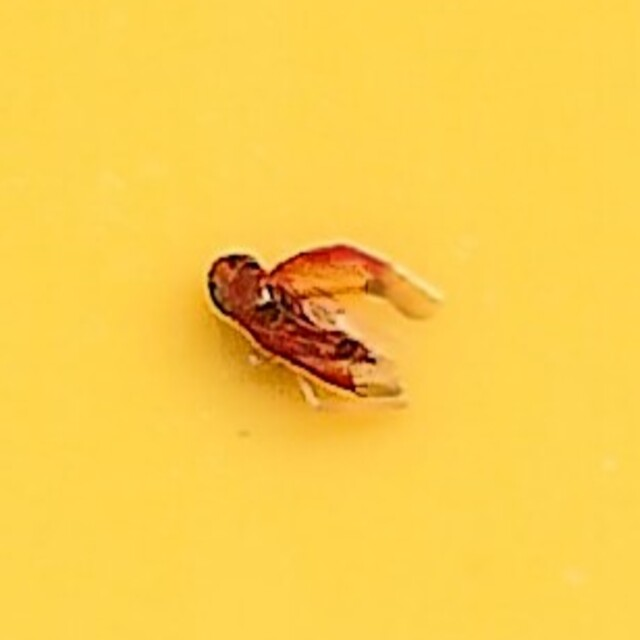Hemiptera: (208, 245, 432, 395)
